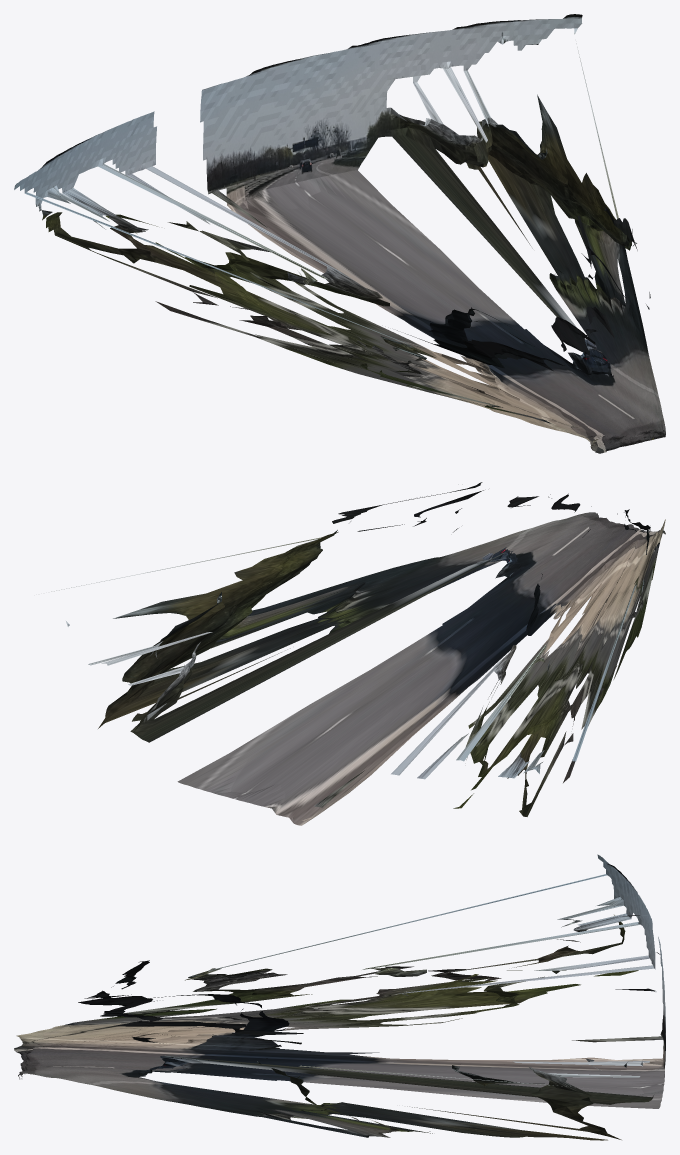
The picture shows the model from 3 angles, top to bottom: view 1: azimuth 30°, elevation 25°; view 2: azimuth 150°, elevation 25°; view 3: azimuth 270°, elevation 25°; orthographic projection. The views are drawn at different scales.
Visible parts, largest first — view 1: defaultobject; view 2: defaultobject; view 3: defaultobject.
Boxes of the visible parts, <box> form: defaultobject: <box>14,14,665,453</box>; defaultobject: <box>51,482,665,825</box>; defaultobject: <box>14,854,665,1140</box>.
Size of the model in its own units: 40.09 by 9.76 by 44.57.
1 material, 1 textured.
